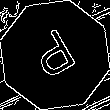P_SE: (26, 24, 84, 86)
